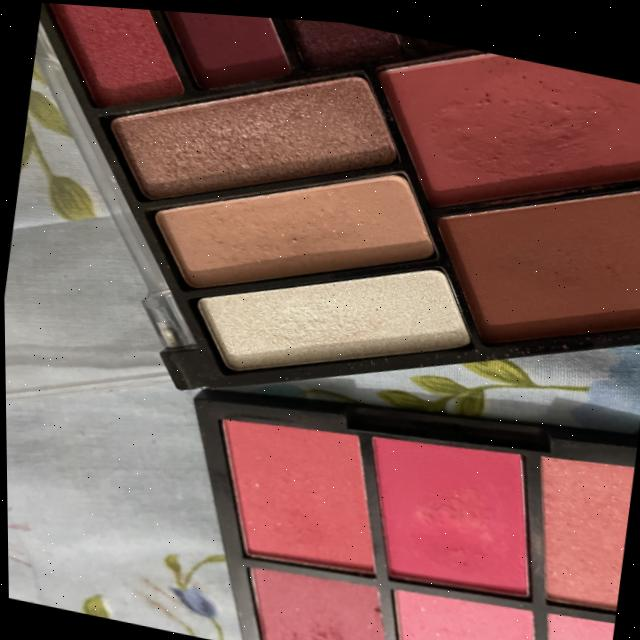blush: (346, 410, 561, 607), (190, 390, 404, 578), (514, 427, 636, 611), (224, 544, 395, 640), (370, 562, 552, 640), (522, 587, 615, 640)
eye shade: (66, 13, 409, 260), (124, 121, 447, 342), (349, 22, 640, 258), (407, 116, 640, 384), (185, 214, 480, 418), (25, 1, 192, 151), (109, 6, 301, 129), (250, 13, 422, 99)
